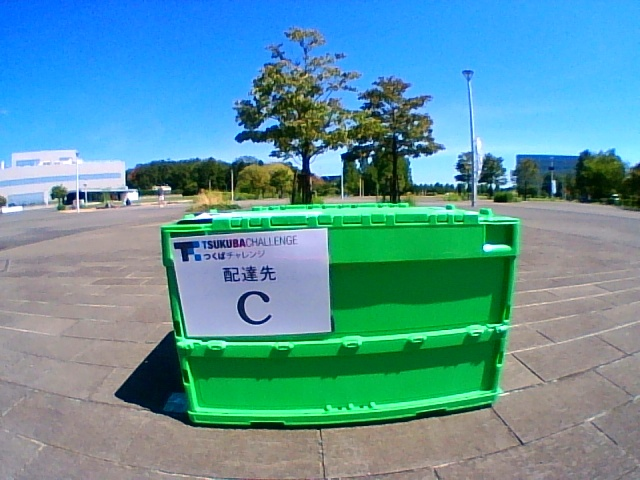green_box: (161, 204, 521, 426)
tag_c: (197, 238, 317, 333)
